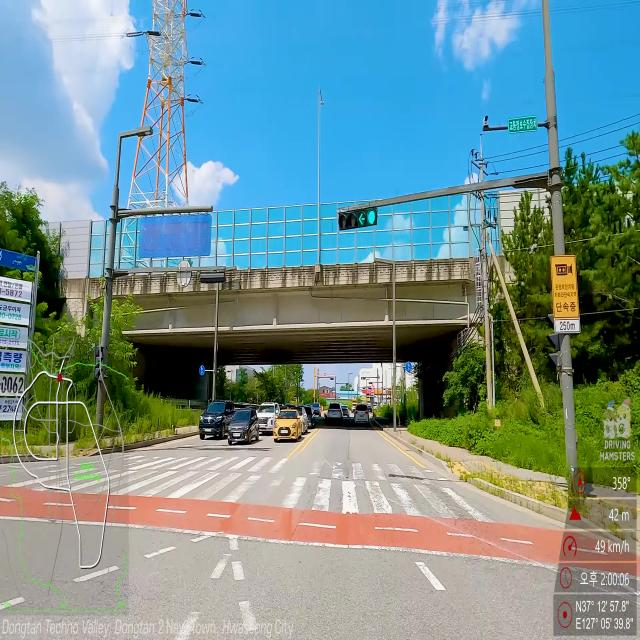Green Light: (367, 209, 376, 225)
